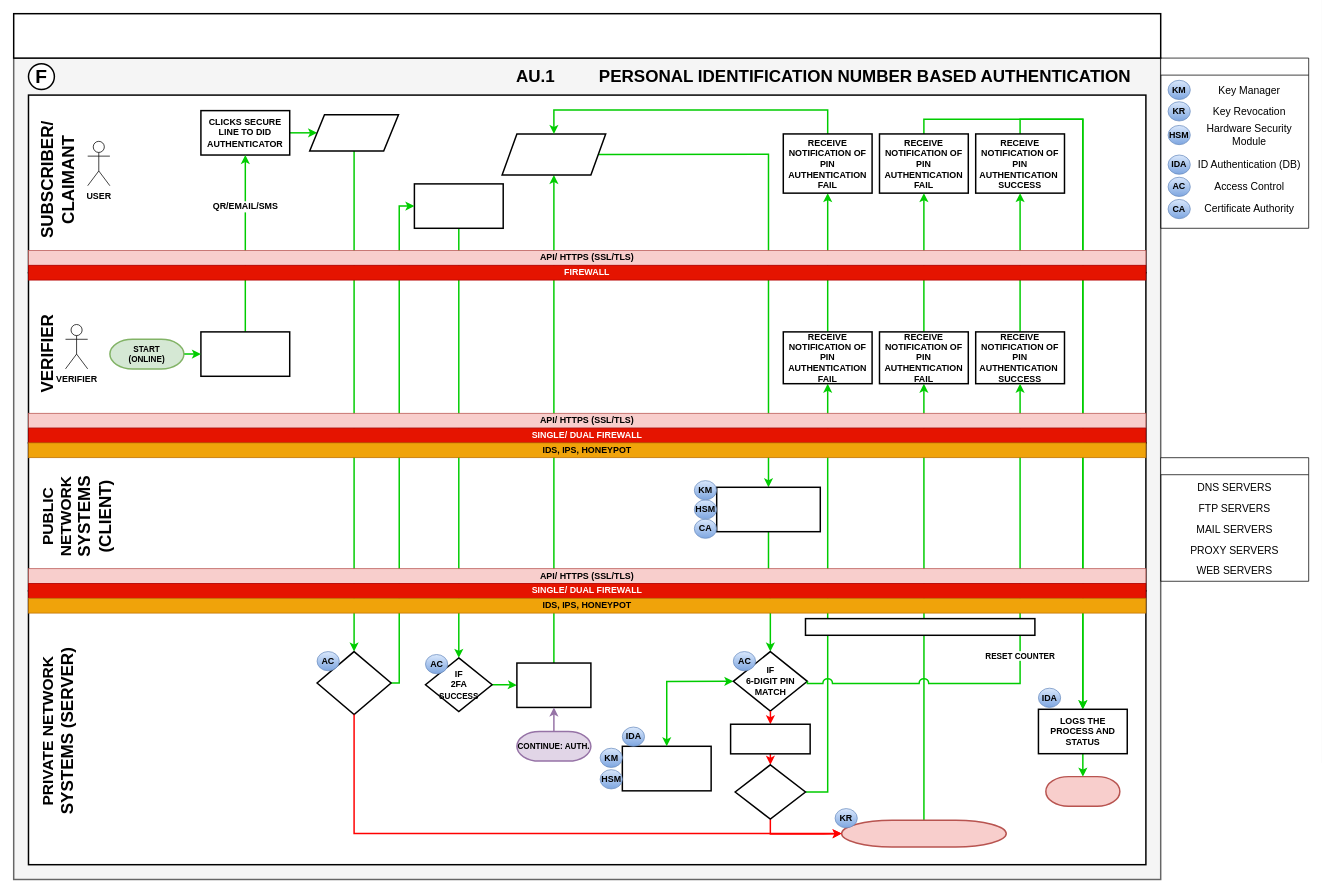
Image size: 1322x892. Some labels were removed from this diagram. The shapes that lost their labels are listed below. From the top down, each one's box as (x1, y1, x2, y2) in pixels, then its label:
(13, 13, 1161, 58): Purpose: This SOP d etails the PIN-based user authentication process.
(309, 114, 399, 151): LOGIN - PASS. AUTH.: AU.1.B
(1160, 57, 1309, 228): LEGEND
(501, 133, 606, 175): ENTERS THE 6-DIGIT PIN
(413, 183, 504, 229): 2FA USING (ONE) OTP: AU.2.C PIN: AU.1.F
(200, 331, 290, 377): REQUEST AUTHENTICATION WITH SECURE LINK
(716, 486, 821, 532): MASK & ENCRYPT ENTERED PIN FOR AUTHENTICATION
(1160, 457, 1309, 581): PUBLIC NETWORK
(804, 618, 1035, 636): NOTIFICATION GENERATOR
(316, 650, 391, 715): IF PASS. AUTH. SUCCESS
(516, 662, 591, 708): REQUEST TO ENTER 6-DIGIT PIN
(729, 723, 811, 754): EXCEPTION AND ERROR HANDLING (COUNTER)
(621, 745, 712, 791): DID DATABASE: UIN ACCOUNT
(734, 764, 806, 820): IF RETRY COUNT < = 3
(1045, 776, 1120, 807): END
(840, 819, 1007, 847): TERMINATE PROCESS: LOCK UIN ACCOUNT FOR 24 HOURS
